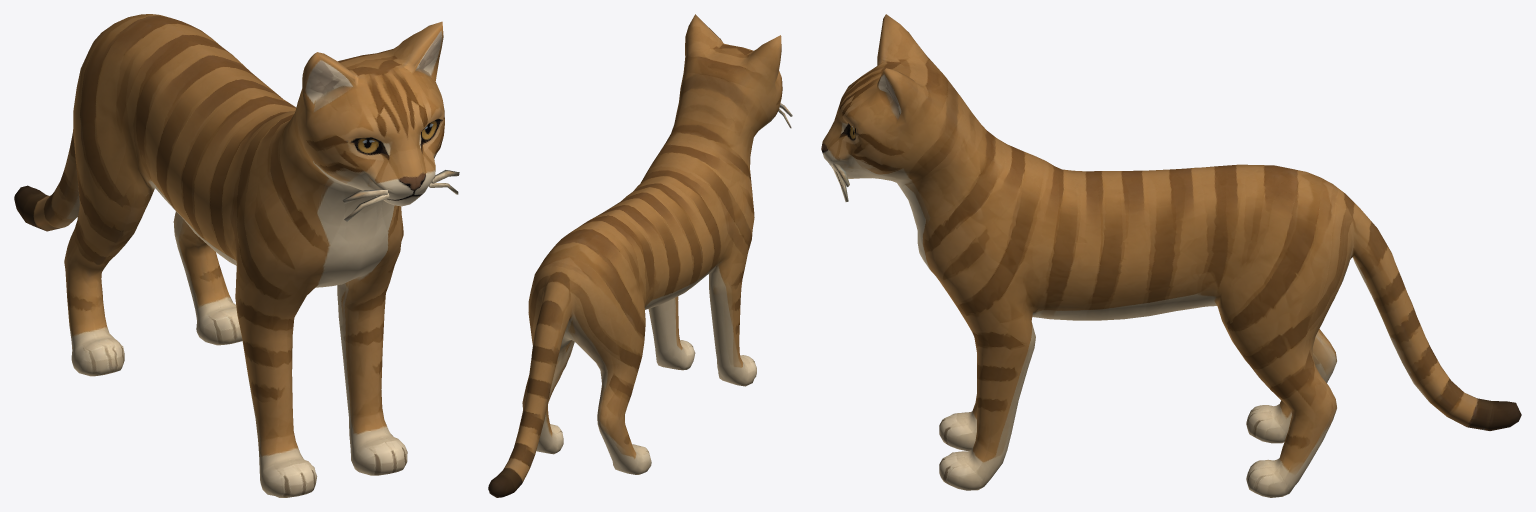
File: cat.glb
3 views of the same model, side by side, from view 1: azimuth 30°, elevation 25°; view 2: azimuth 150°, elevation 25°; view 3: azimuth 270°, elevation 25° (orthographic). The views are drawn at different scales.
Visible parts, largest first — view 1: GOE_farm_cat; view 2: GOE_farm_cat; view 3: GOE_farm_cat.
Boxes of the visible parts, box(x1,y1,x2,y2) form: GOE_farm_cat: box(14, 14, 459, 497); GOE_farm_cat: box(488, 14, 792, 497); GOE_farm_cat: box(821, 14, 1521, 497).
Bounding box in the file's own units: 0.249 × 0.6646 × 1.
Materials: 1 (1 with a texture image).
